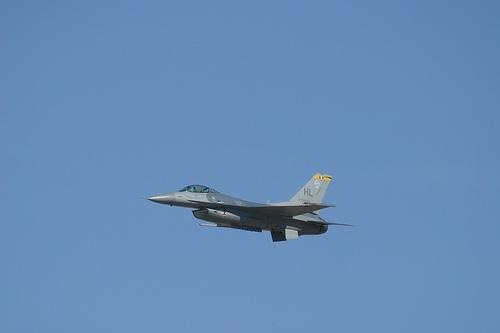aeroplane: (142, 174, 355, 245)
